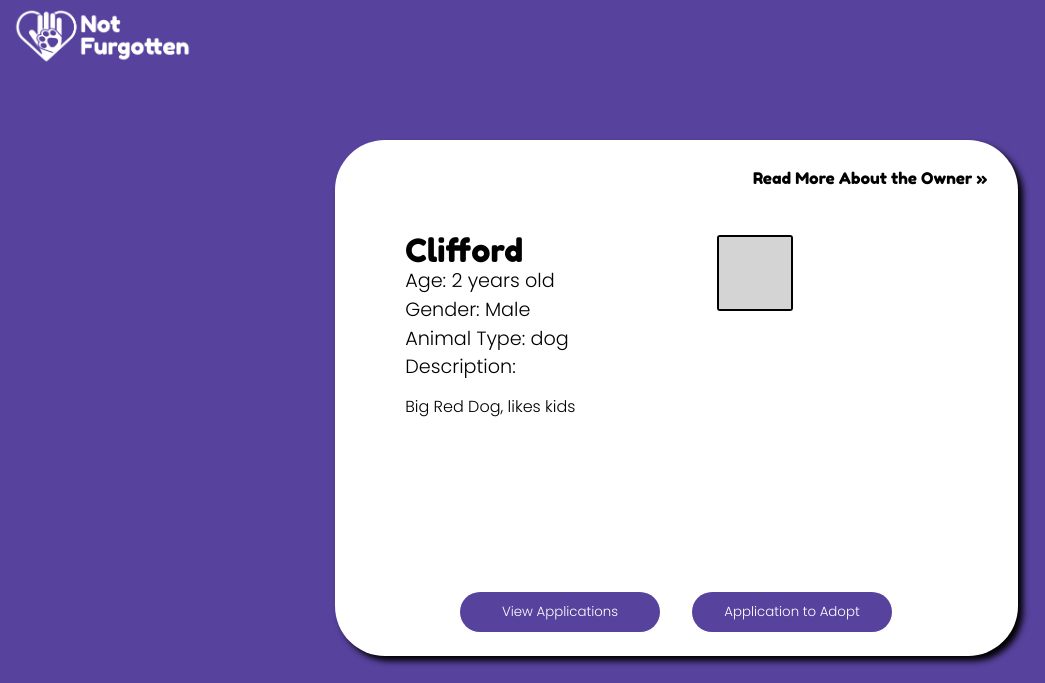
Single Pet Page › Should show owner information on click of Read More About the owner
Click the heading "Read More About the Owner »".
click(870, 178)  # box [753,170,987,186]
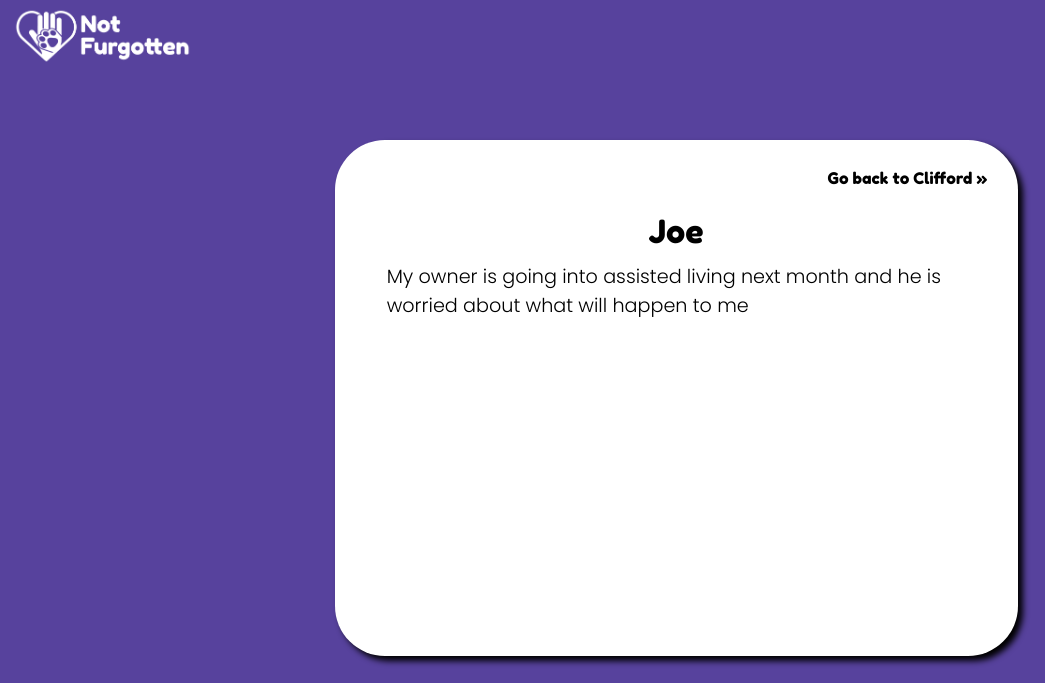
expect the text "My owner is going into assisted living next month and he is worried about what will happen to me" is shown: met, box [387,263,941,319]
